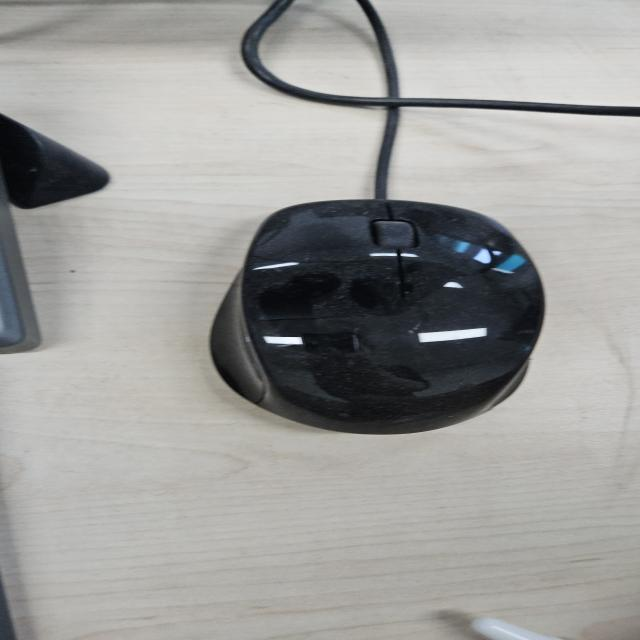Mouse: (206, 197, 548, 436)
